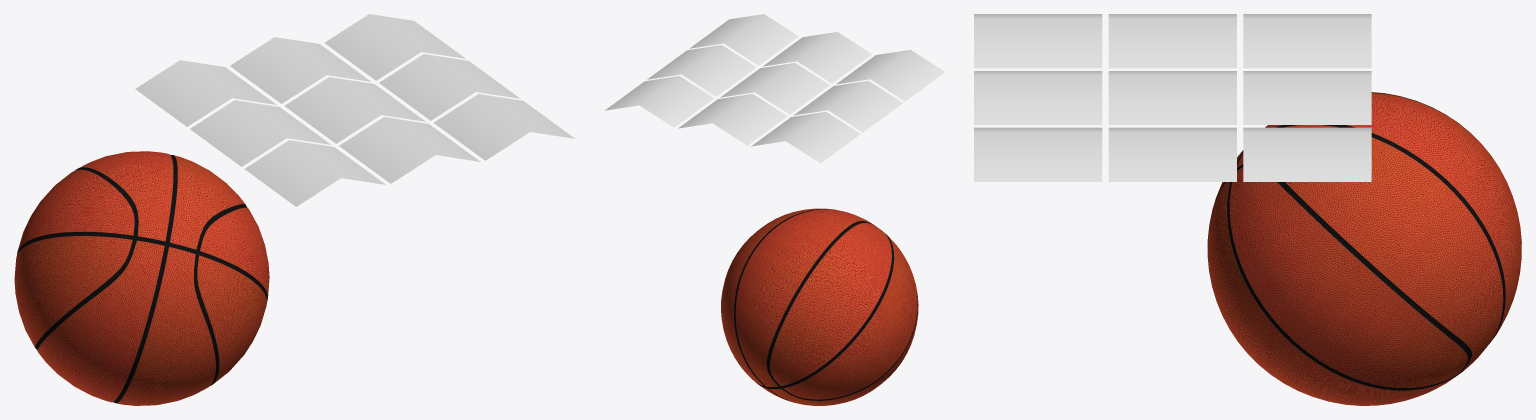
The model's file is basketball.fbx.
3 renders of one model, left to right at view 1: azimuth 30°, elevation 25°; view 2: azimuth 150°, elevation 25°; view 3: azimuth 270°, elevation 25°, orthographic. The views are drawn at different scales.
Visible parts, largest first — view 1: basket_ball, Plane_6, Plane_8, Plane_5, Plane_7, Plane_4, Plane_0, Plane_2, Plane_1, Plane_3; view 2: basket_ball, Plane_0, Plane_3, Plane_5, Plane_6, Plane_2, Plane_7, Plane_8, Plane_1, Plane_4; view 3: basket_ball, Plane_6, Plane_8, Plane_0, Plane_2, Plane_3, Plane_5, Plane_1, Plane_4, Plane_7.
Boxes of the visible parts, x1,y1,x2,y2 form: basket_ball: [14, 151, 269, 405]; Plane_6: [135, 60, 276, 126]; Plane_8: [324, 14, 465, 80]; Plane_5: [379, 54, 520, 120]; Plane_7: [230, 37, 370, 103]; Plane_4: [284, 77, 425, 143]; Plane_0: [245, 140, 385, 206]; Plane_2: [433, 94, 574, 160]; Plane_1: [339, 117, 480, 183]; Plane_3: [190, 100, 330, 166]; basket_ball: [721, 208, 918, 405]; Plane_0: [836, 49, 945, 101]; Plane_3: [793, 80, 902, 132]; Plane_5: [647, 45, 756, 96]; Plane_6: [751, 111, 860, 163]; Plane_2: [689, 14, 798, 65]; Plane_7: [678, 94, 787, 145]; Plane_8: [605, 76, 714, 127]; Plane_1: [763, 32, 871, 83]; Plane_4: [720, 63, 829, 114]; basket_ball: [1207, 92, 1521, 405]; Plane_6: [1243, 14, 1371, 68]; Plane_8: [1243, 127, 1371, 181]; Plane_0: [974, 14, 1102, 68]; Plane_2: [974, 127, 1102, 181]; Plane_3: [1108, 14, 1236, 68]; Plane_5: [1108, 127, 1236, 181]; Plane_1: [974, 71, 1102, 124]; Plane_4: [1108, 71, 1236, 124]; Plane_7: [1243, 71, 1371, 124].
Bounding box in the file's own units: 168 × 135 × 168.
